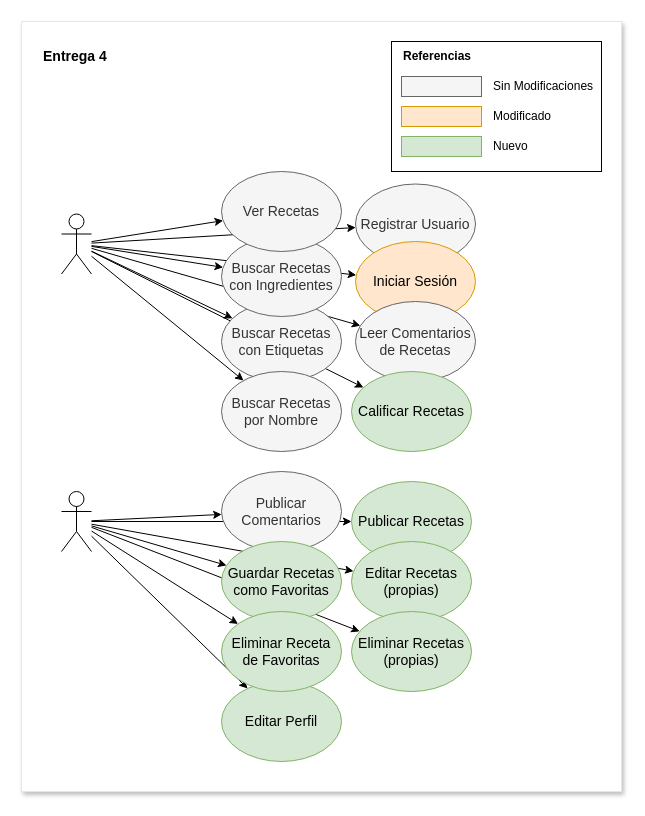
Image size: 645x816. Some labels were removed from this diagram. Here are the shapes that lost their labels. From the top down, the centre of each, then its label:
point 76,243: Usuario Anónimo
point 76,521: Usuario Registrado
